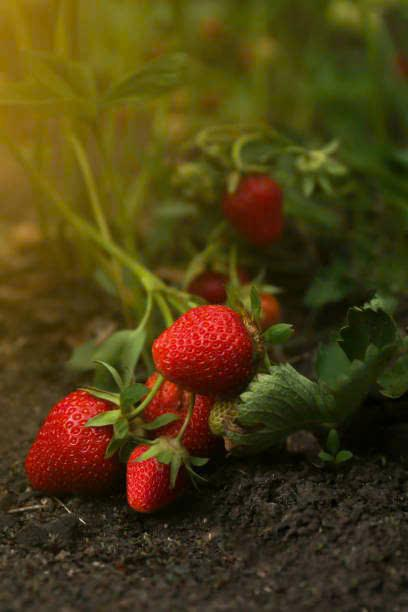strawberry: (33, 389, 122, 501), (150, 307, 268, 390)
